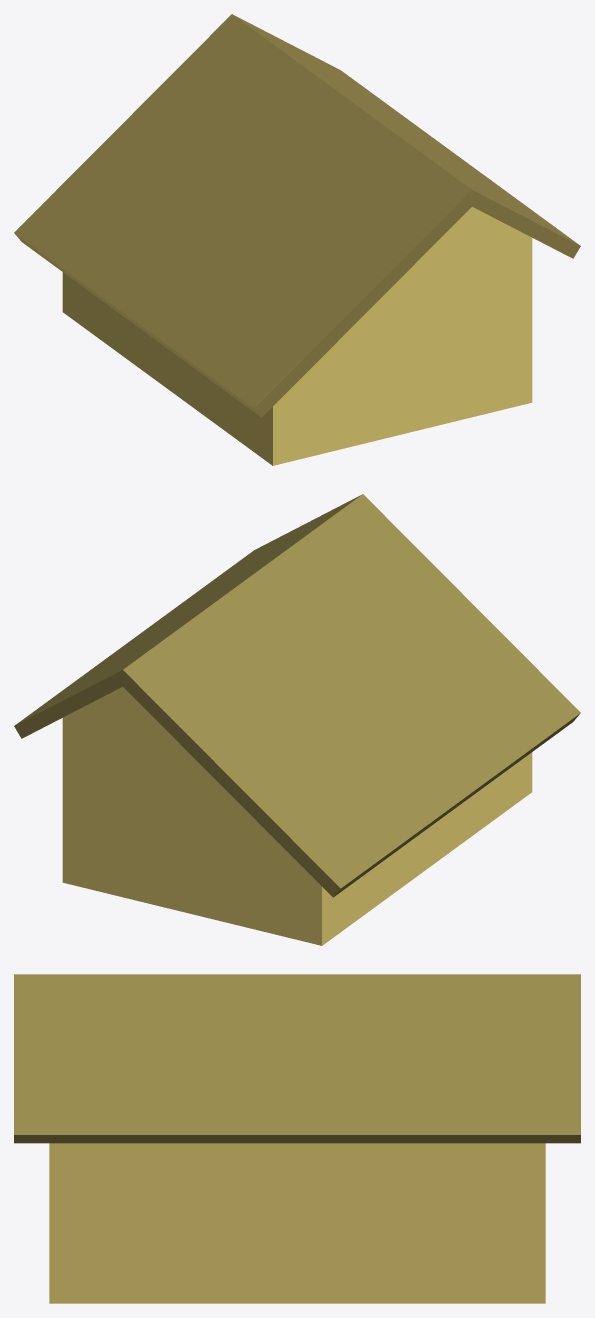
File: result.glb
3 renders of one model, top to bottom at view 1: azimuth 30°, elevation 25°; view 2: azimuth 150°, elevation 25°; view 3: azimuth 270°, elevation 25°, orthographic. The views are drawn at different scales.
Parts seen in each view (by area): view 1: 929b2e0d-4608-47dd-9000-eeb4149d8262__undefined (×2), 204240a4-d2b4-4d1e-b7cd-978b89613a86__undefined; view 2: 929b2e0d-4608-47dd-9000-eeb4149d8262__undefined (×2), 204240a4-d2b4-4d1e-b7cd-978b89613a86__undefined; view 3: 929b2e0d-4608-47dd-9000-eeb4149d8262__undefined, 204240a4-d2b4-4d1e-b7cd-978b89613a86__undefined.
Part boxes in pixels (left/top/right/bottom): 929b2e0d-4608-47dd-9000-eeb4149d8262__undefined (×2): left=14, top=14, right=580, bottom=417; 204240a4-d2b4-4d1e-b7cd-978b89613a86__undefined: left=62, top=207, right=532, bottom=465; 929b2e0d-4608-47dd-9000-eeb4149d8262__undefined (×2): left=14, top=494, right=580, bottom=897; 204240a4-d2b4-4d1e-b7cd-978b89613a86__undefined: left=62, top=687, right=532, bottom=945; 929b2e0d-4608-47dd-9000-eeb4149d8262__undefined: left=14, top=974, right=580, bottom=1143; 204240a4-d2b4-4d1e-b7cd-978b89613a86__undefined: left=49, top=1143, right=545, bottom=1303.
Size of the model in its own units: 628 by 445 by 800.
